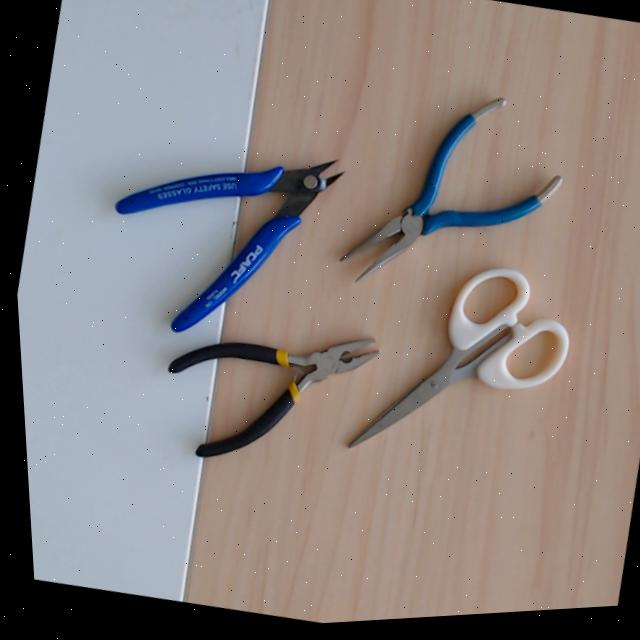Gunting: (306, 251, 579, 449)
Tang-Jepit-Biru: (312, 90, 568, 322)
Tang-Jepit-Hitam: (159, 292, 394, 463)
Tang-Potong-Biru: (104, 99, 372, 335)
